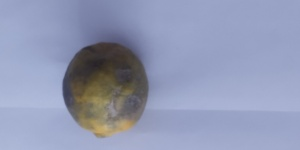BAD: (61, 41, 150, 140)
